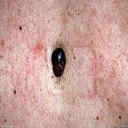Melanoma: (49, 46, 69, 80)
